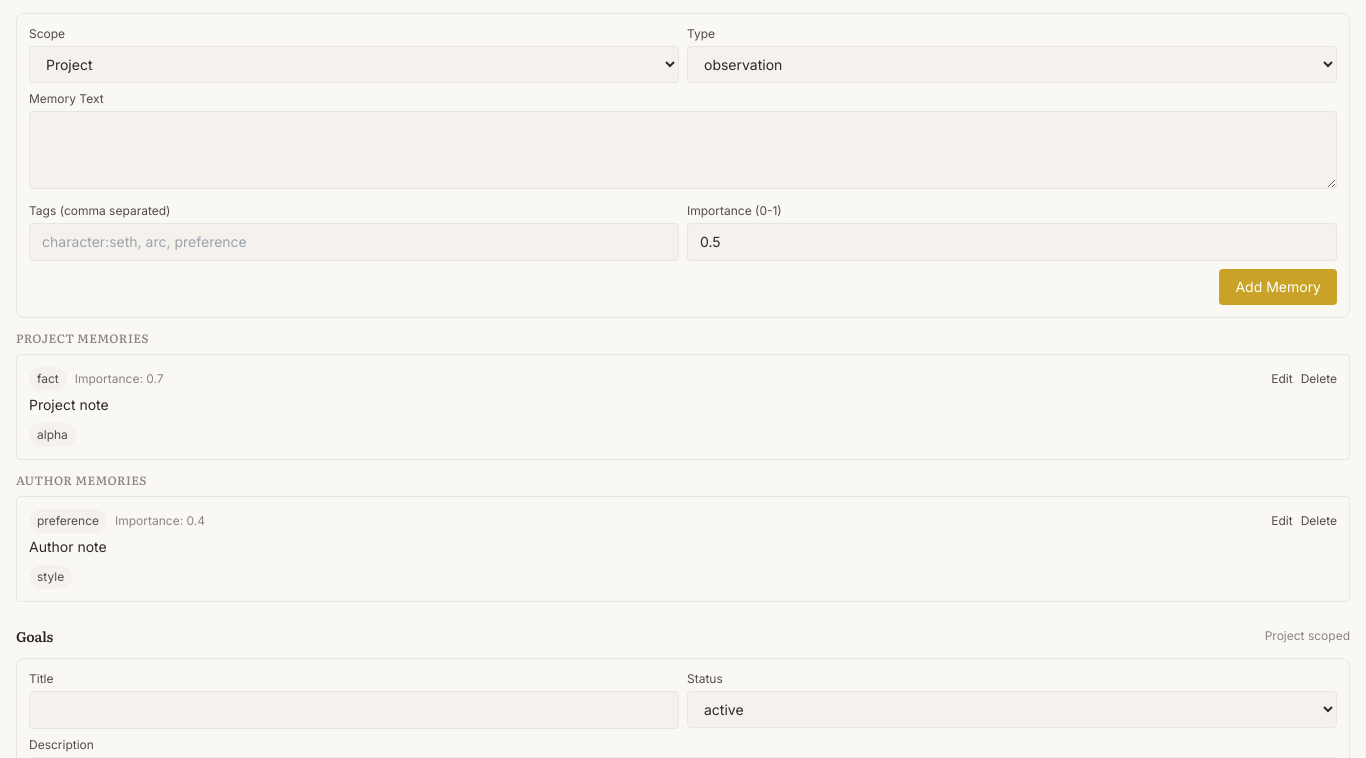
Scenario: MemoryManager › cancels memory edit mode
The image size is (1366, 758).
(page scrolled)
Expected: the text "Project note" is shown, [29,396,109,413]
# Start editing
Click the button "Edit" in the row of "0.7" at (1282,379), box [1271,371,1293,387]
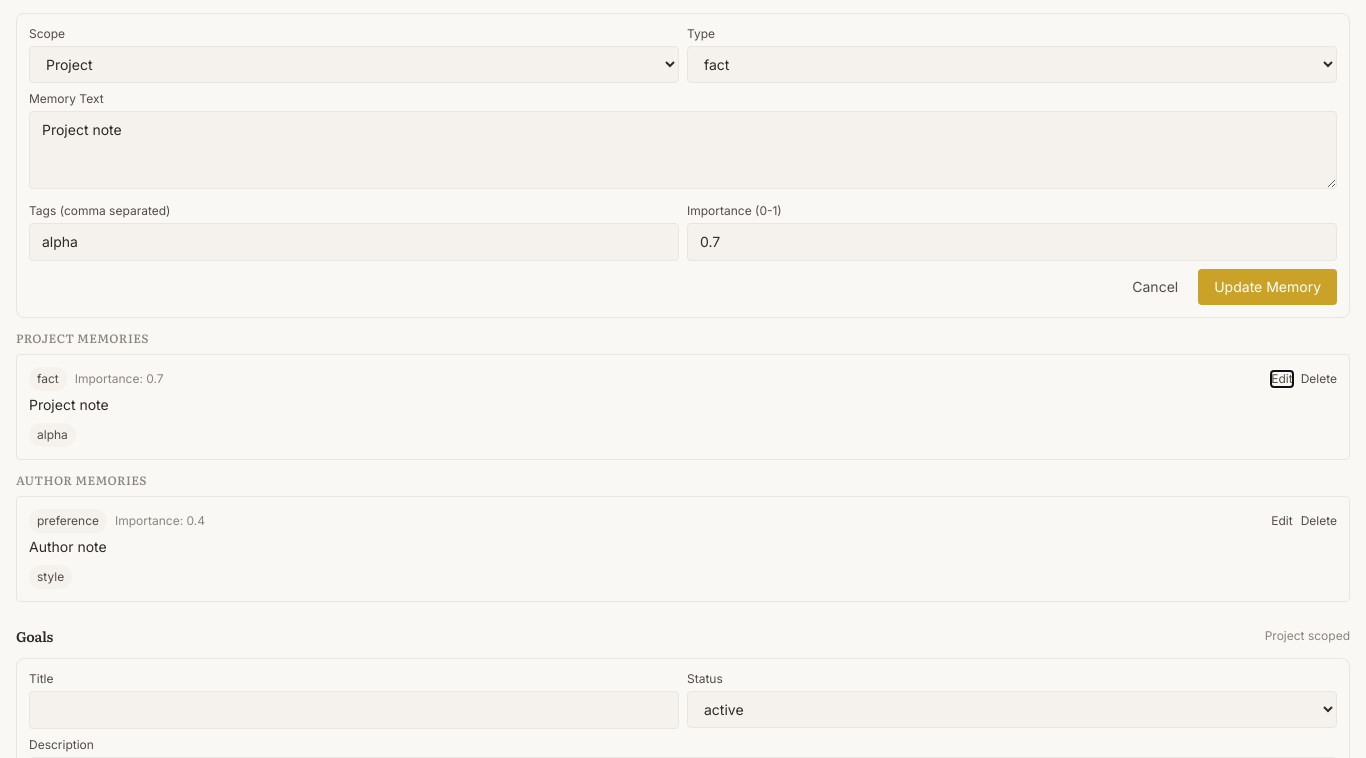
# Click cancel
Click the button "Cancel" at (1155,287), box [1120,269,1190,305]
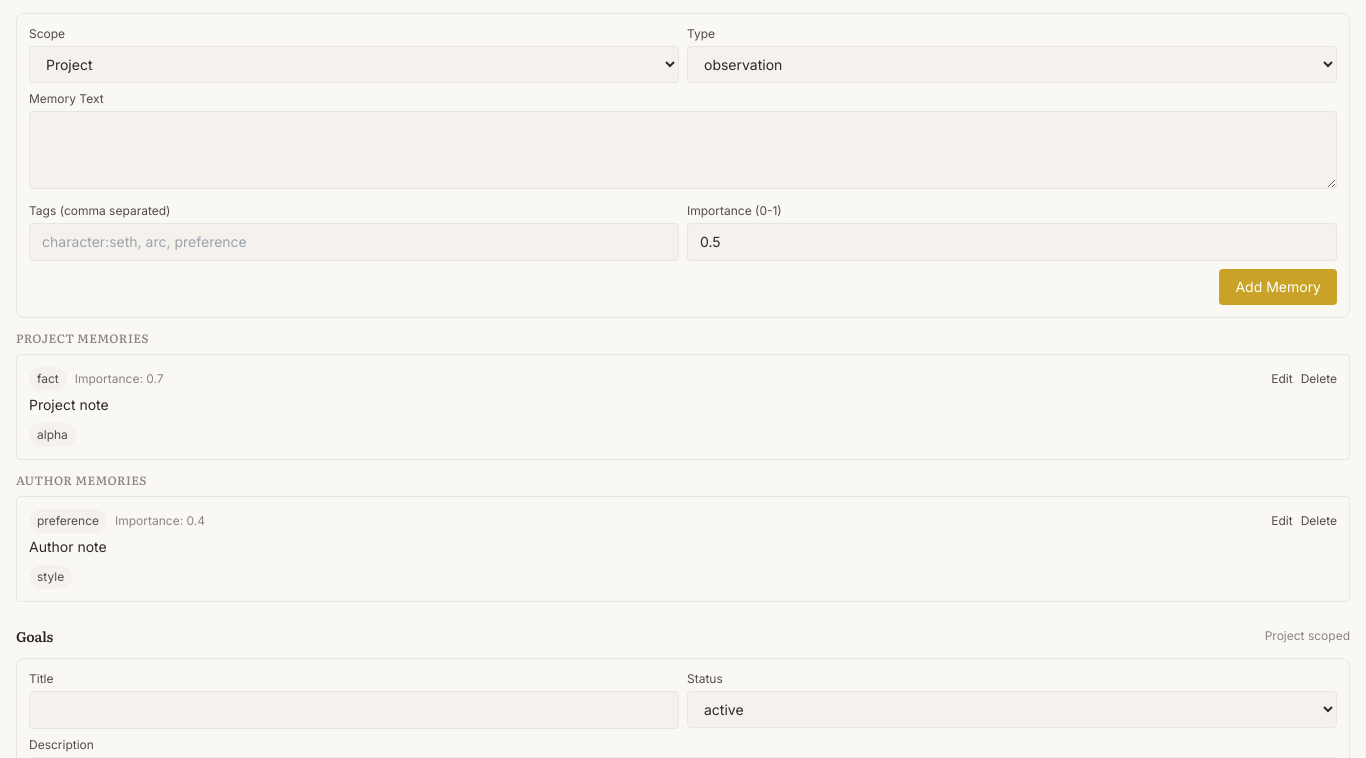
Now the text box labelled "Memory Text" is empty, box [29,111,1337,189]
